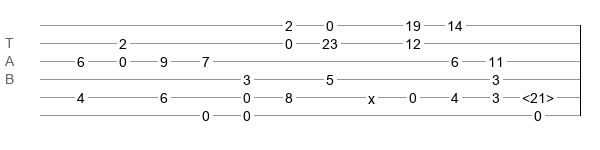0: (119, 54, 127, 64), (202, 108, 210, 118), (243, 108, 251, 118), (243, 90, 251, 100), (285, 36, 293, 46), (326, 18, 334, 28), (409, 90, 417, 100), (534, 108, 542, 118)
11: (488, 54, 504, 64)
12: (405, 36, 421, 46)
14: (447, 18, 463, 28)
19: (405, 18, 421, 28)
2: (119, 36, 127, 46), (285, 18, 293, 28)
23: (322, 36, 338, 46)
3: (243, 72, 251, 82), (492, 90, 500, 100), (492, 72, 500, 82)
4: (77, 90, 85, 100), (451, 90, 459, 100)
5: (326, 72, 334, 82)
6: (77, 54, 85, 64), (160, 90, 168, 100), (451, 54, 459, 64)
7: (202, 54, 210, 64)
8: (285, 90, 293, 100)
9: (160, 54, 168, 64)
harmonic: (522, 90, 554, 100)
x: (368, 91, 375, 99)
